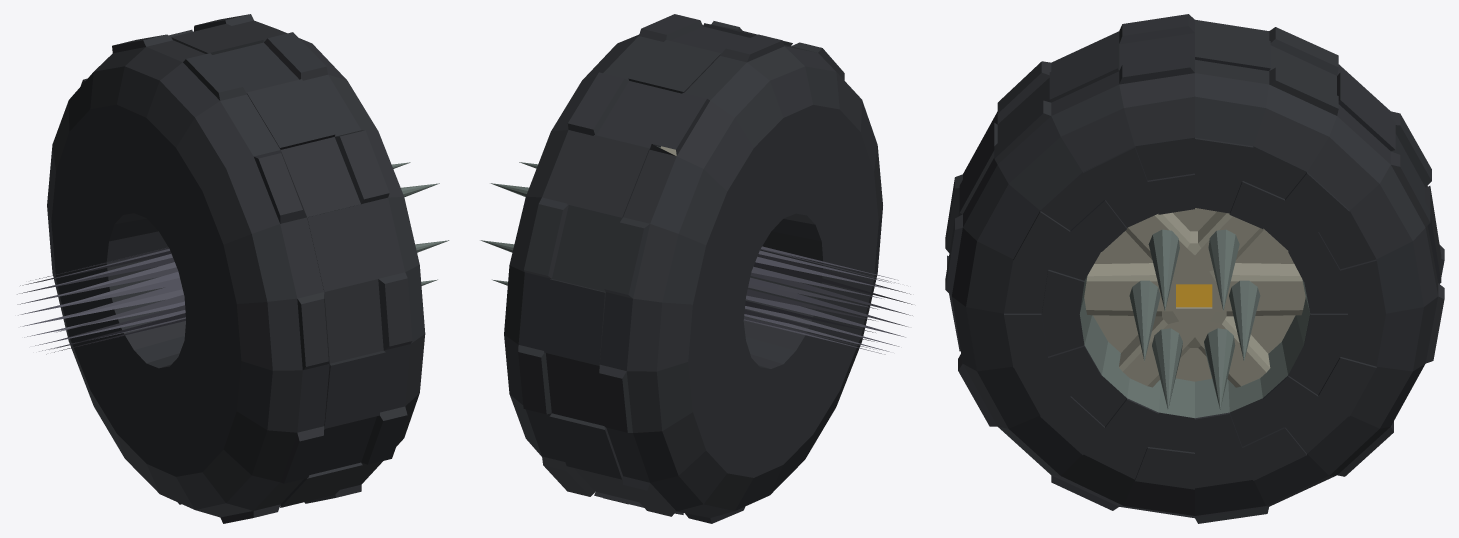
Rendered from wheel.glb.
The picture shows the model from 3 angles, left to right: view 1: azimuth 30°, elevation 25°; view 2: azimuth 150°, elevation 25°; view 3: azimuth 270°, elevation 25°; orthographic projection.
Parts seen in each view (by area): view 1: Wheel; view 2: Wheel; view 3: Wheel.
Boxes of the visible parts, x1,y1,x2,y2 form: Wheel: [17, 14, 449, 523]; Wheel: [480, 14, 912, 523]; Wheel: [945, 14, 1444, 523].
Size of the model in its own units: 0.4053 by 0.4443 by 0.4401.
Materials: 1 (1 with a texture image).
